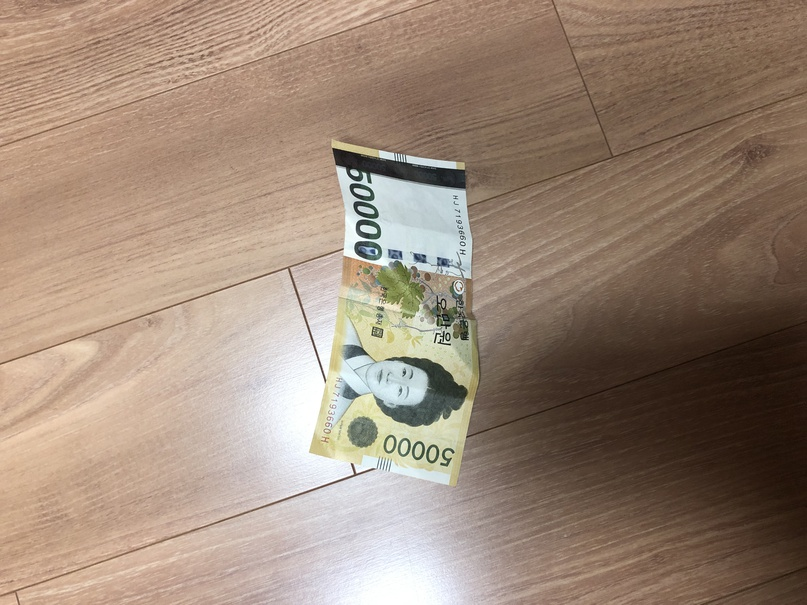50000won: (310, 139, 480, 488)
